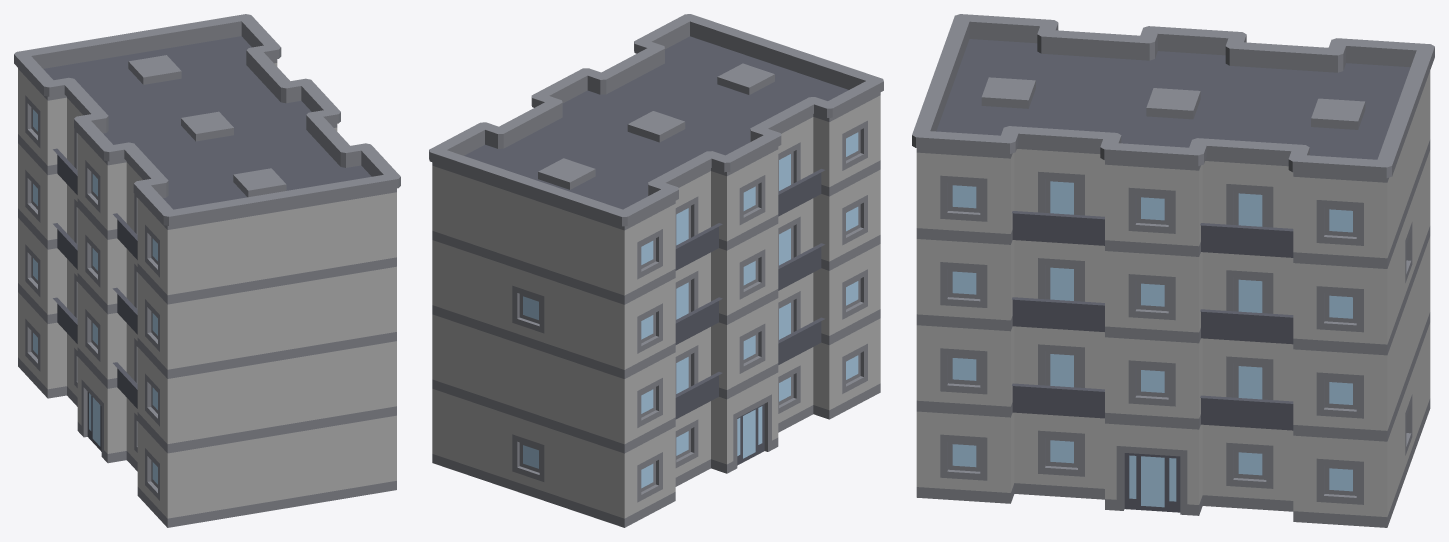
The model's file is large_buildingA.005.obj.
3 renders of one model, left to right at view 1: azimuth 30°, elevation 25°; view 2: azimuth 150°, elevation 25°; view 3: azimuth 270°, elevation 25°, orthographic. The views are drawn at different scales.
Visible parts, largest first — view 1: large_buildingA.003; view 2: large_buildingA.003; view 3: large_buildingA.003.
Part boxes in pixels (x1=…): large_buildingA.003: x1=14, y1=14, x2=400, y2=527; large_buildingA.003: x1=429, y1=14, x2=883, y2=527; large_buildingA.003: x1=912, y1=14, x2=1434, y2=527.
Size of the model in its own units: 27.86 by 30.67 by 40.11.
